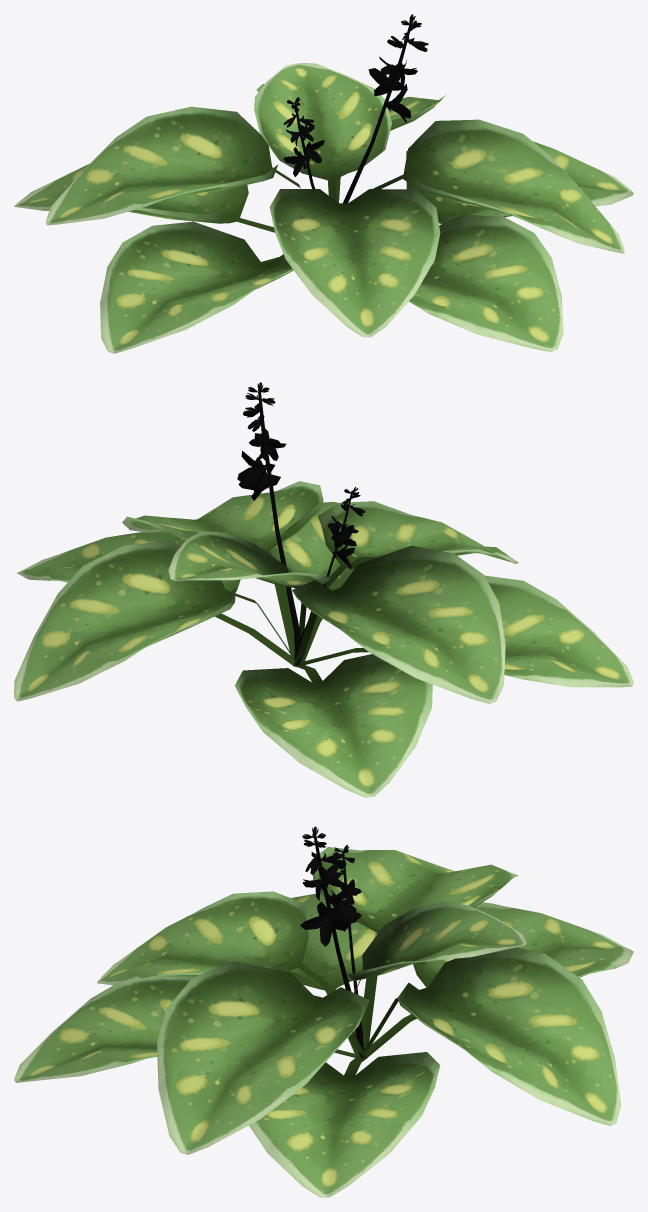
Rendered from Hosta_LGF_03.fbx.
The picture shows the model from 3 angles, top to bottom: view 1: azimuth 30°, elevation 25°; view 2: azimuth 150°, elevation 25°; view 3: azimuth 270°, elevation 25°; orthographic projection. The views are drawn at different scales.
Parts seen in each view (by area): view 1: Hosta_LGF_03; view 2: Hosta_LGF_03; view 3: Hosta_LGF_03.
Boxes of the visible parts, <box> form: Hosta_LGF_03: <box>14,14,633,353</box>; Hosta_LGF_03: <box>14,382,633,797</box>; Hosta_LGF_03: <box>14,826,633,1197</box>.
Size of the model in its own units: 116 by 47.7 by 103.
